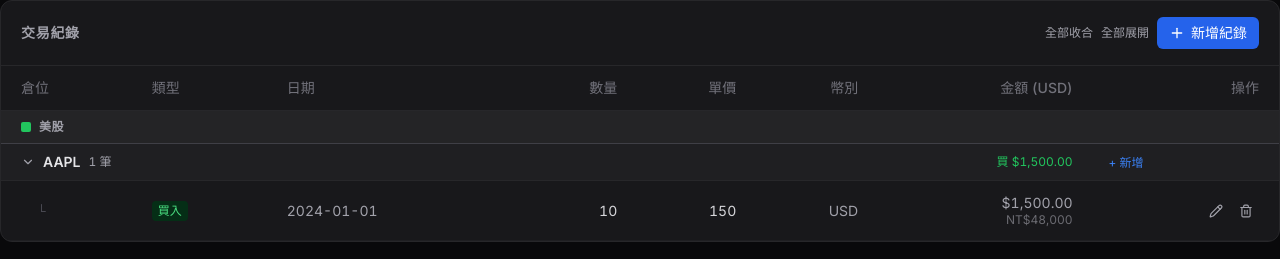
Test: LotTable › 全部收合 hides all transaction rows
Check: the text "買入" is shown, box [152,201,188,221]
Step 1. Click the button "全部收合" → (1069, 33), box [1045,25,1093,41]
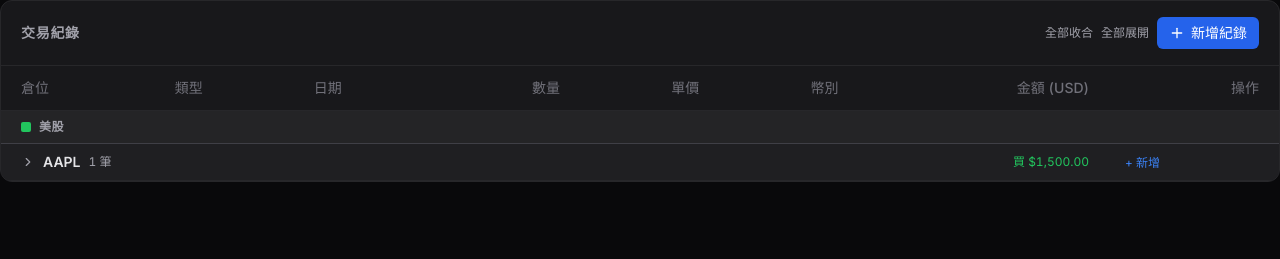
Check: the text "買入" is gone
